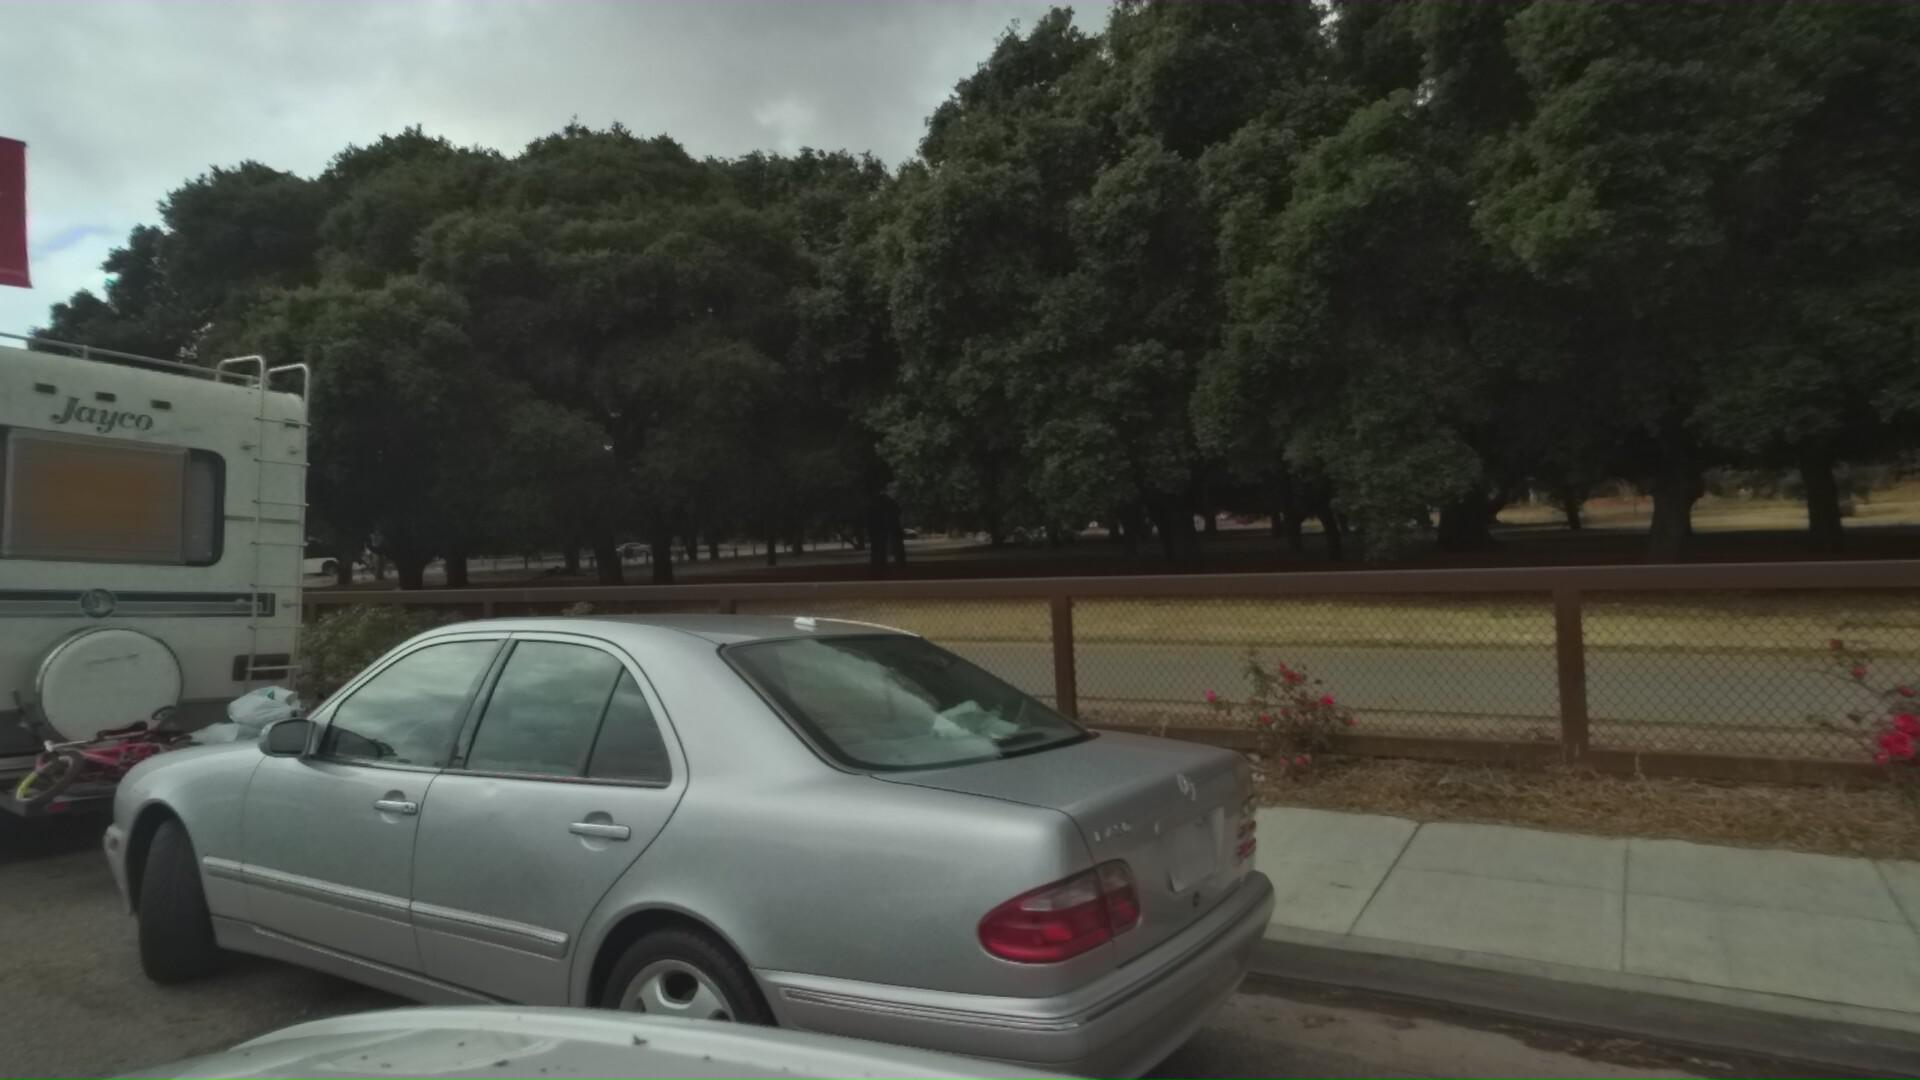car: (71, 600, 1418, 1080)
other_vehicle: (0, 203, 483, 986)
